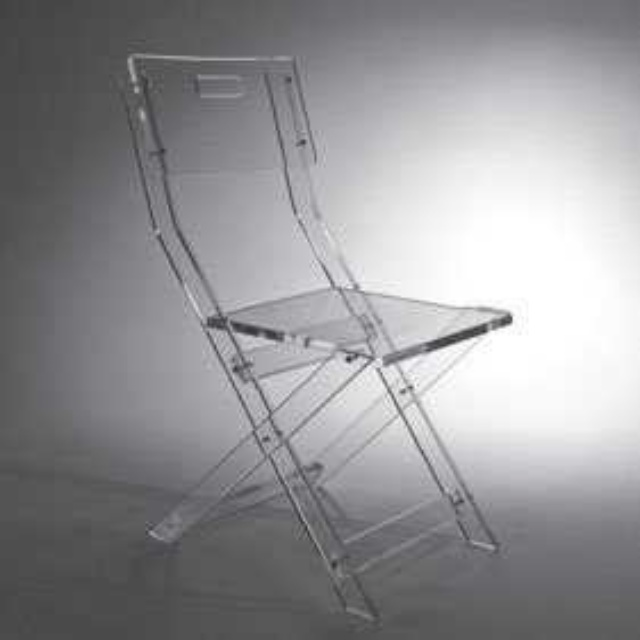obstacle: (125, 54, 510, 624)
